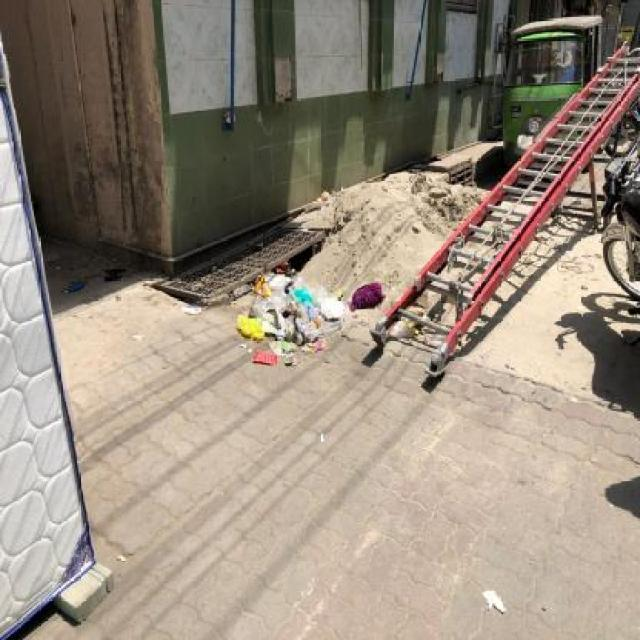garbage: (177, 246, 408, 382), (49, 259, 138, 305)
